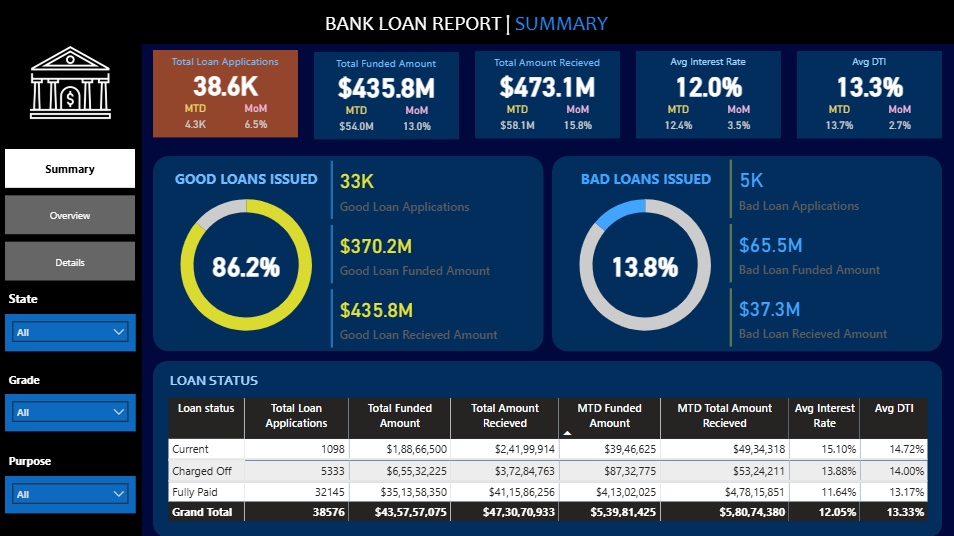

Layout of this report page (visuals, bound fields, positions):
{"tool":"powerbi","page":{"name":"Summary","canvas":[1280,720],"ordinal":0},"visuals":[{"type":"shape","box":[0,0,1280,59.2],"z":0},{"type":"shape","box":[0,59.2,191.3,660.6],"z":1000},{"type":"shape","box":[206.3,208.9,522.9,261.5],"z":2000},{"type":"textbox","box":[430.8,11,417,56.4],"z":3000},{"type":"shape","box":[206.5,67.4,194.1,117],"z":3000,"group":"g1"},{"type":"shape","box":[637.3,67.9,194.1,117],"z":3000,"group":"g3"},{"type":"shape","box":[852.7,67.9,194.1,117],"z":3000,"group":"g4"},{"type":"shape","box":[1068.1,67.9,194.1,117],"z":3000,"group":"g5"},{"type":"shape","box":[421.9,69.3,194.1,117],"z":3000,"group":"g2"},{"type":"group","id":"g1","title":"Group 1","box":[206.5,67.4,194.1,117],"z":4000},{"type":"card","fields":{"Values":["bank_loan_data.Total Loan Applications"]},"box":[206.5,83.9,194.1,57.8],"z":4000,"group":"g1"},{"type":"card","fields":{"Values":["bank_loan_data.Total Amount Recieved"]},"box":[637.3,84.4,194.1,57.8],"z":4000,"group":"g3"},{"type":"card","fields":{"Values":["bank_loan_data.Avg Interest Rate"]},"box":[852.7,84.4,194.1,57.8],"z":4000,"group":"g4"},{"type":"card","fields":{"Values":["bank_loan_data.Avg DTI"]},"box":[1068.1,84.4,194.1,57.8],"z":4000,"group":"g5"},{"type":"card","fields":{"Values":["bank_loan_data.Total Funded Amount"]},"box":[421.9,85.8,194.1,57.8],"z":4000,"group":"g2"},{"type":"textbox","box":[223,67.4,161,33],"z":5000,"group":"g1"},{"type":"textbox","box":[653.8,67.9,161,33],"z":5000,"group":"g3"},{"type":"textbox","box":[869.2,67.9,161,33],"z":5000,"group":"g4"},{"type":"textbox","box":[1084.6,67.9,161,33],"z":5000,"group":"g5"},{"type":"group","id":"g2","title":"Group 1","box":[421.9,69.3,193.9,116.4],"z":5000},{"type":"textbox","box":[438.4,69.3,161,33],"z":5000,"group":"g2"},{"type":"group","id":"g3","title":"Group 1","box":[637.3,67.9,193.9,116.4],"z":6000},{"type":"card","title":"MTD","fields":{"Values":["bank_loan_data.MTD Loan Applications"]},"box":[223,137.6,81.2,46.8],"z":6000,"group":"g1"},{"type":"card","title":"MTD","fields":{"Values":["bank_loan_data.MTD Total Amount Recieved"]},"box":[653.8,138.1,81.2,46.8],"z":6000,"group":"g3"},{"type":"card","title":"MTD","fields":{"Values":["bank_loan_data.MTD Avg Int Rate"]},"box":[869.2,138.1,81.2,46.8],"z":6000,"group":"g4"},{"type":"card","title":"MTD","fields":{"Values":["bank_loan_data.MTD Avg DTI"]},"box":[1084.6,138.1,81.2,46.8],"z":6000,"group":"g5"},{"type":"card","title":"MTD","fields":{"Values":["bank_loan_data.MTD Funded Amount"]},"box":[438.4,139.5,81.2,46.8],"z":6000,"group":"g2"},{"type":"group","id":"g4","title":"Group 1","box":[852.7,67.9,193.9,116.4],"z":7000},{"type":"card","title":"MoM","fields":{"Values":["bank_loan_data.MOM Loan Applications"]},"box":[304.2,137.6,79.8,46.8],"z":7000,"group":"g1"},{"type":"card","title":"MoM","fields":{"Values":["bank_loan_data.MOM Total Amount Recieved"]},"box":[735,138.1,79.8,46.8],"z":7000,"group":"g3"},{"type":"card","title":"MoM","fields":{"Values":["bank_loan_data.MOM Avg Int Rate"]},"box":[950.4,138.1,79.8,46.8],"z":7000,"group":"g4"},{"type":"card","title":"MoM","fields":{"Values":["bank_loan_data.MOM Avg DTI"]},"box":[1165.8,138.1,79.8,46.8],"z":7000,"group":"g5"},{"type":"card","title":"MoM","fields":{"Values":["bank_loan_data.MOM Total Funded Amount"]},"box":[519.6,139.5,79.8,46.8],"z":7000,"group":"g2"},{"type":"group","id":"g5","title":"Group 1","box":[1068.1,67.9,193.9,116.4],"z":8000},{"type":"shape","box":[739.7,209.2,522.3,261.8],"z":9000},{"type":"donutChart","fields":{"Category":["bank_loan_data.Good v Bad Loan"],"Y":["bank_loan_data.Total Loan Applications"]},"box":[206.4,239.7,249.4,230],"z":10000},{"type":"textbox","box":[218.9,220.3,223,40.2],"z":11000},{"type":"card","fields":{"Values":["bank_loan_data.Bad Loan %"]},"box":[767.4,325.5,193.9,58.2],"z":12000},{"type":"cardVisual","fields":{"Data":["bank_loan_data.Good Loan Applications","bank_loan_data.Good Loan Funded Amount","bank_loan_data.Good Loan Recieved Amount"]},"box":[439.1,210.6,289.5,260.4],"z":13000},{"type":"donutChart","fields":{"Category":["bank_loan_data.Good v Bad Loan"],"Y":["bank_loan_data.Total Loan Applications"]},"box":[739.7,239.7,249.4,230],"z":14000},{"type":"textbox","box":[773.9,220.7,187.9,36.8],"z":15000},{"type":"card","fields":{"Values":["bank_loan_data.Good Loan %"]},"box":[141.3,325.5,378.2,58.2],"z":16000},{"type":"cardVisual","fields":{"Data":["bank_loan_data.Bad Loan Applications","bank_loan_data.Bad Loan Funded Amount","bank_loan_data.Bad Loan Recieved Amount"]},"box":[972.5,209.2,289.5,260.4],"z":17000},{"type":"shape","box":[206.3,483.5,1056.4,236.5],"z":18000},{"type":"tableEx","fields":{"Values":["bank_loan_data.loan_status","bank_loan_data.Total Loan Applications","bank_loan_data.Total Funded Amount","bank_loan_data.Total Amount Recieved","bank_loan_data.MTD Funded Amount","bank_loan_data.MTD Total Amount Recieved","bank_loan_data.Avg Interest Rate","bank_loan_data.Avg DTI"]},"box":[220.7,526.9,1027.4,193.1],"z":19000},{"type":"textbox","box":[223.4,492.7,152.4,34.2],"z":20000},{"type":"slicer","fields":{"Values":["bank_loan_data.address_state"]},"box":[8.3,419.8,174.8,49.5],"z":21000},{"type":"textbox","box":[8.3,384,97.7,35.8],"z":22000},{"type":"slicer","fields":{"Values":["bank_loan_data.grade"]},"box":[8.3,527.1,174.8,49.5],"z":23000},{"type":"slicer","fields":{"Values":["bank_loan_data.purpose"]},"box":[8.3,637.2,174.8,49.5],"z":24000},{"type":"textbox","box":[8.3,492.7,223,48.2],"z":25000},{"type":"textbox","box":[8.3,601.5,223,35.8],"z":26000},{"type":"image","box":[0,0,191.4,220.8],"z":27000},{"type":"pageNavigator","box":[8.3,199.6,174.8,177.5],"z":28000}]}

Visuals, with their boxes in screenshot pixels (x1, y1, x2, y2), scaled from the page's 1280x720 canvas onto the 954x536 screenshot:
shape: bbox=(0, 0, 953, 44)
shape: bbox=(0, 44, 143, 535)
shape: bbox=(154, 156, 543, 350)
textbox: bbox=(321, 8, 632, 50)
shape: bbox=(154, 50, 299, 137)
shape: bbox=(475, 51, 620, 138)
shape: bbox=(636, 51, 780, 138)
shape: bbox=(796, 51, 941, 138)
shape: bbox=(314, 52, 459, 139)
"Group 1" group: bbox=(154, 50, 299, 137)
card - bank_loan_data.Total Loan Applications: bbox=(154, 62, 299, 105)
card - bank_loan_data.Total Amount Recieved: bbox=(475, 63, 620, 106)
card - bank_loan_data.Avg Interest Rate: bbox=(636, 63, 780, 106)
card - bank_loan_data.Avg DTI: bbox=(796, 63, 941, 106)
card - bank_loan_data.Total Funded Amount: bbox=(314, 64, 459, 107)
textbox: bbox=(166, 50, 286, 75)
textbox: bbox=(487, 51, 607, 75)
textbox: bbox=(648, 51, 768, 75)
textbox: bbox=(808, 51, 928, 75)
"Group 1" group: bbox=(314, 52, 459, 138)
textbox: bbox=(327, 52, 447, 76)
"Group 1" group: bbox=(475, 51, 620, 137)
"MTD" card: bbox=(166, 102, 227, 137)
"MTD" card: bbox=(487, 103, 548, 138)
"MTD" card: bbox=(648, 103, 708, 138)
"MTD" card: bbox=(808, 103, 869, 138)
"MTD" card: bbox=(327, 104, 387, 139)
"Group 1" group: bbox=(636, 51, 780, 137)
"MoM" card: bbox=(227, 102, 286, 137)
"MoM" card: bbox=(548, 103, 607, 138)
"MoM" card: bbox=(708, 103, 768, 138)
"MoM" card: bbox=(869, 103, 928, 138)
"MoM" card: bbox=(387, 104, 447, 139)
"Group 1" group: bbox=(796, 51, 941, 137)
shape: bbox=(551, 156, 941, 351)
donutChart - bank_loan_data.Good v Bad Loan x bank_loan_data.Total Loan Applications: bbox=(154, 178, 340, 350)
textbox: bbox=(163, 164, 329, 194)
card - bank_loan_data.Bad Loan %: bbox=(572, 242, 716, 286)
cardVisual - bank_loan_data.Good Loan Applications x bank_loan_data.Good Loan Funded Amount: bbox=(327, 157, 543, 351)
donutChart - bank_loan_data.Good v Bad Loan x bank_loan_data.Total Loan Applications: bbox=(551, 178, 737, 350)
textbox: bbox=(577, 164, 717, 192)
card - bank_loan_data.Good Loan %: bbox=(105, 242, 387, 286)
cardVisual - bank_loan_data.Bad Loan Applications x bank_loan_data.Bad Loan Funded Amount: bbox=(725, 156, 941, 350)
shape: bbox=(154, 360, 941, 535)
tableEx - bank_loan_data.loan_status x bank_loan_data.Total Loan Applications: bbox=(164, 392, 930, 535)
textbox: bbox=(167, 367, 280, 392)
slicer - bank_loan_data.address_state: bbox=(6, 313, 136, 349)
textbox: bbox=(6, 286, 79, 313)
slicer - bank_loan_data.grade: bbox=(6, 392, 136, 429)
slicer - bank_loan_data.purpose: bbox=(6, 474, 136, 511)
textbox: bbox=(6, 367, 172, 403)
textbox: bbox=(6, 448, 172, 474)
image: bbox=(0, 0, 143, 164)
pageNavigator: bbox=(6, 149, 136, 281)
